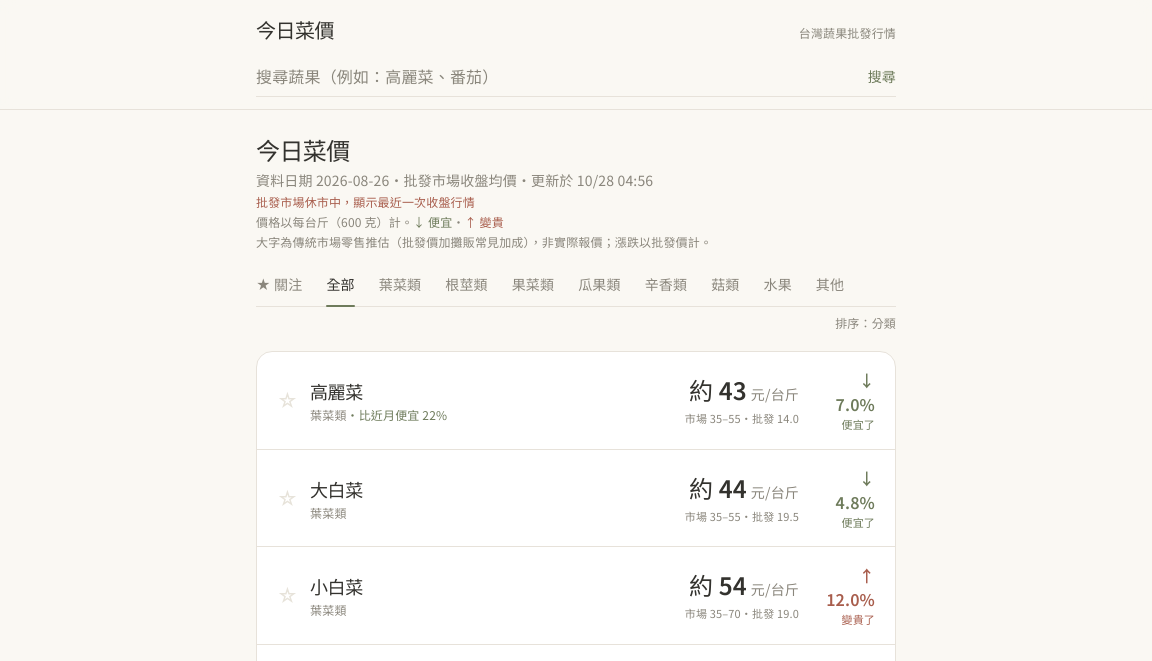
Test: App — deep links › clears the URL query when the box is emptied from the keyboard
Expected: the heading "高麗菜" is shown, [310, 378, 363, 404]
Type "番茄" into the search field with placeholder "搜尋蔬果（例如：高麗菜、番茄）" at (556, 76), box [256, 56, 856, 96]
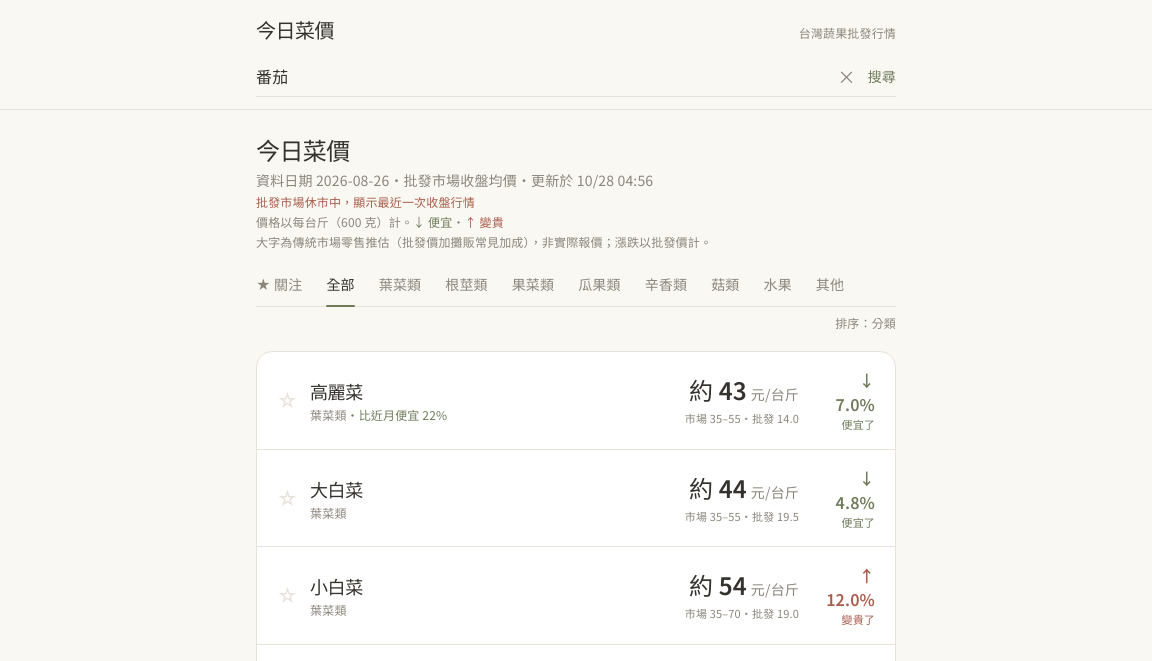
Click the button "搜尋" at (882, 76), box [868, 66, 896, 86]
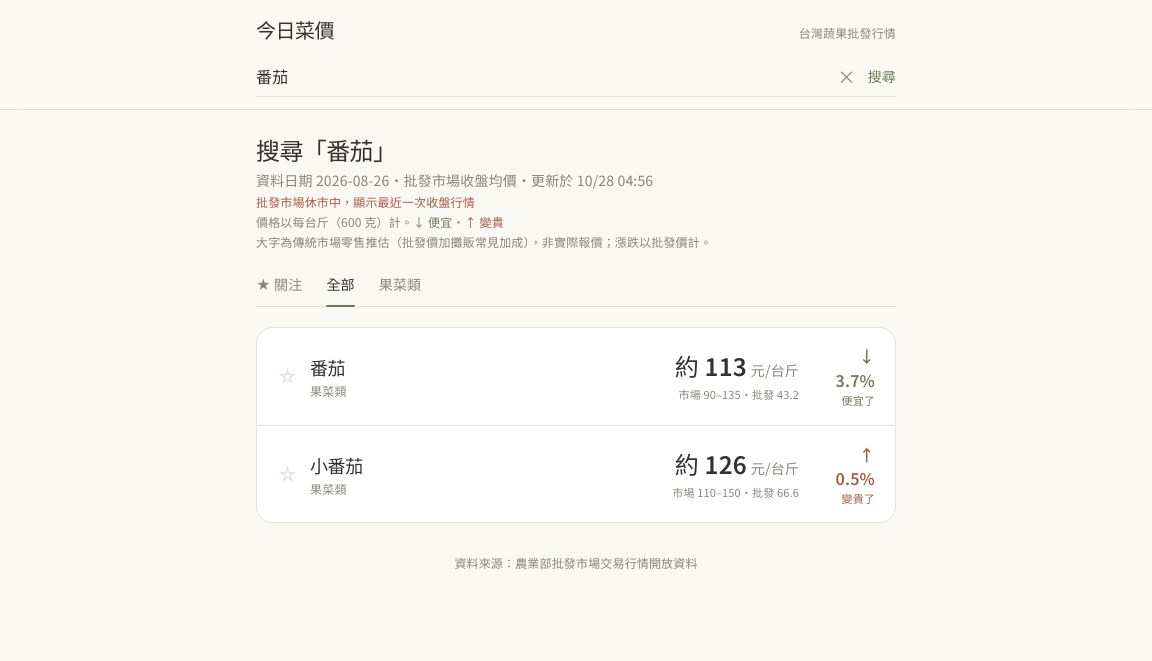
Clear the search field with placeholder "搜尋蔬果（例如：高麗菜、番茄）" at (541, 76), box [256, 56, 826, 96]
Wait 400 ms
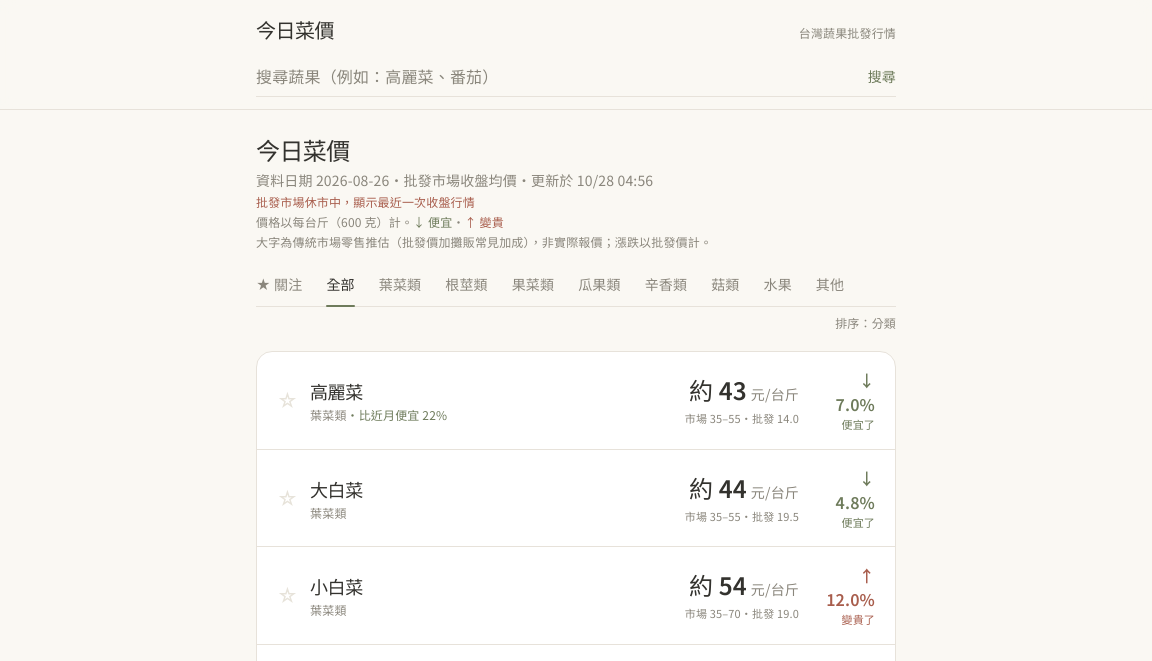
Now the heading "高麗菜" is shown, box [310, 378, 363, 404]
